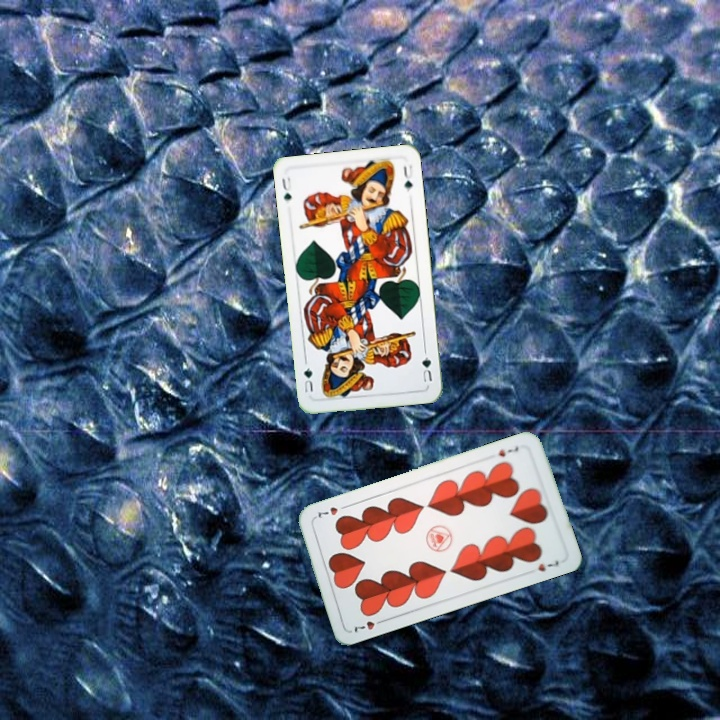GU: (418, 346, 435, 385), (278, 173, 294, 204)
H7: (349, 615, 388, 635), (494, 442, 521, 459)
